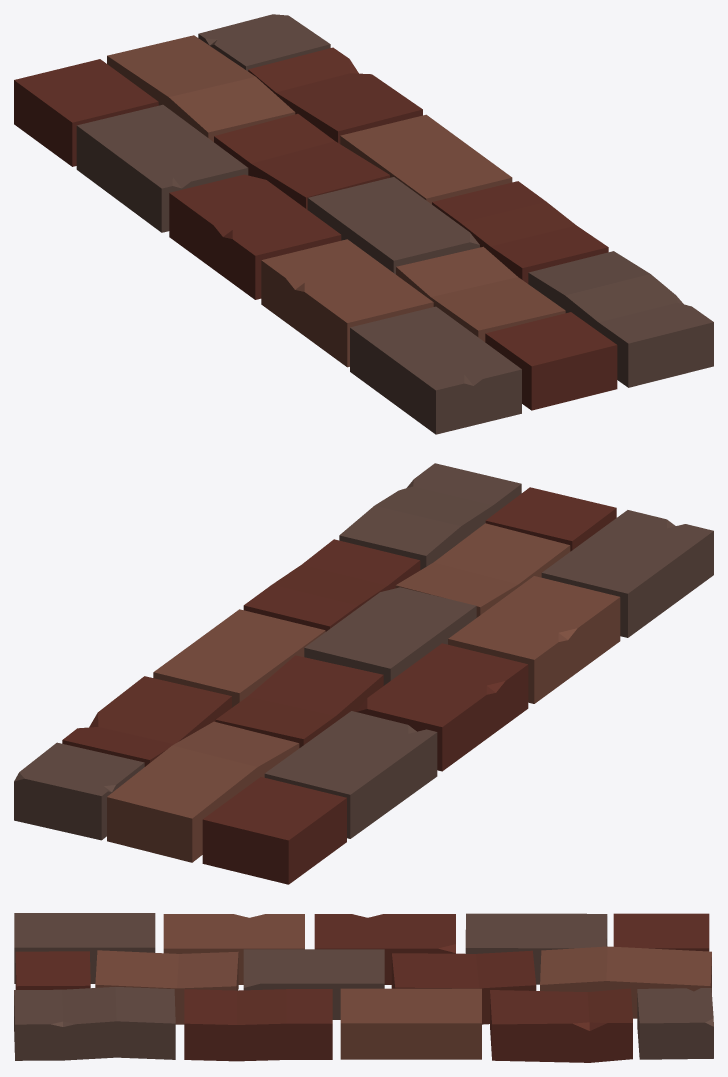
Rendered from Road.fbx.
3 views of the same model, one above another, from view 1: azimuth 30°, elevation 25°; view 2: azimuth 150°, elevation 25°; view 3: azimuth 270°, elevation 25° (orthographic). The views are drawn at different scales.
Visible parts, largest first — view 1: Road; view 2: Road; view 3: Road.
Part boxes in pixels (x1=…): Road: x1=14, y1=14, x2=713, y2=434; Road: x1=14, y1=463, x2=713, y2=884; Road: x1=14, y1=913, x2=713, y2=1062.
Bounding box in the file's own units: 198 × 36.48 × 526.
